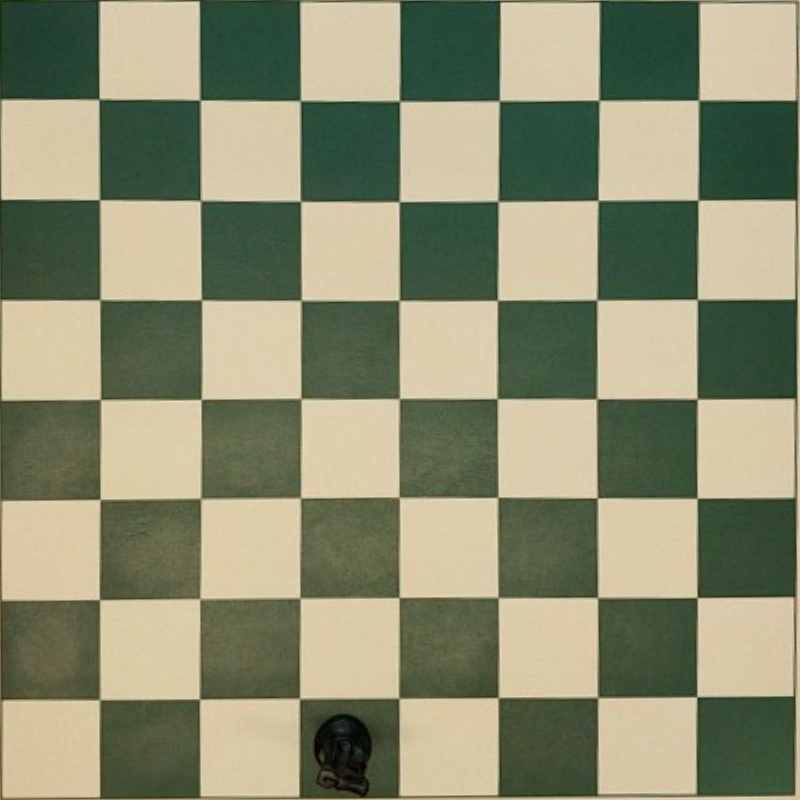black-knight: (312, 713, 373, 792)
